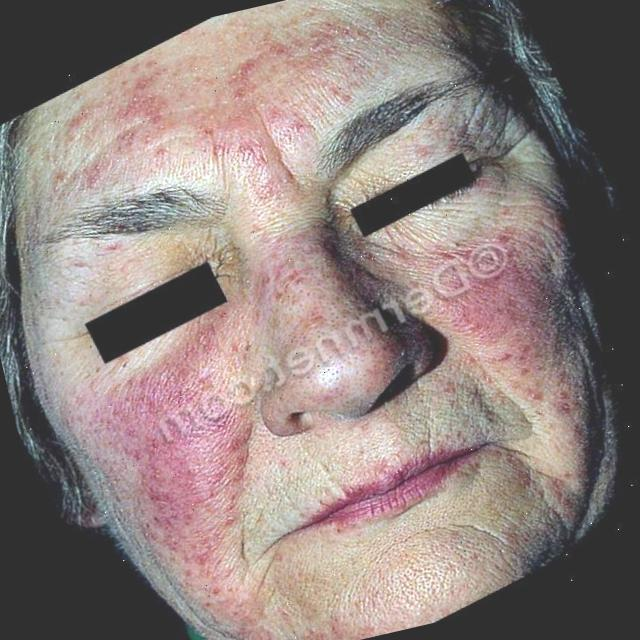skinredness: (28, 283, 392, 640), (416, 178, 616, 415)
